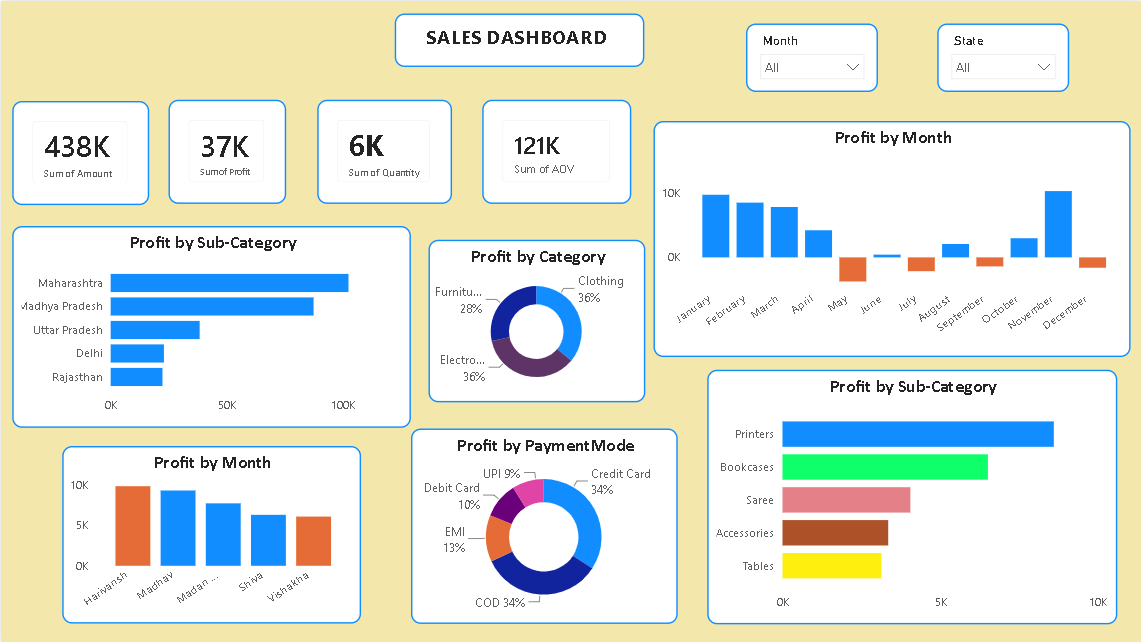

This screenshot's page, from the dashboard's own definition file:
{"tool":"powerbi","page":{"name":"Page 1","canvas":[1280,720],"ordinal":0},"visuals":[{"type":"textbox","box":[441.9,13.7,279.9,60.4],"z":0},{"type":"columnChart","title":" Profit by Month","fields":{"Y":["Sum(Details.Profit)"],"Category":["Orders.Order Date.Variation.Date Hierarchy.Month"]},"box":[731.4,134.5,535.2,264.8],"z":1000},{"type":"barChart","title":" Profit by Sub-Category","fields":{"Category":["Details.Sub-Category"],"Y":["Sum(Details.Profit)"]},"box":[791.8,413,459.7,285.4],"z":2000},{"type":"donutChart","title":"Profit by Category","fields":{"Category":["Details.Category"],"Y":["Sum(Details.Profit)"]},"box":[478.9,267.6,242.9,182.5],"z":3000},{"type":"donutChart","title":"Profit by PaymentMode","fields":{"Y":["Sum(Details.Profit)"],"Category":["Details.PaymentMode"]},"box":[459.7,478.9,299.1,219.6],"z":4000},{"type":"cardVisual","fields":{"Data":["Sum(Details.Amount)"]},"box":[12.3,112.5,153.7,116.6],"z":5000},{"type":"cardVisual","fields":{"Data":["Sum(Details.Quantity)"]},"box":[355.4,111.1,150.9,116.6],"z":6000},{"type":"cardVisual","fields":{"Data":["Sum(Details.Profit)"]},"box":[188,111.1,131.7,116.6],"z":7000},{"type":"cardVisual","fields":{"Data":["Sum(Details.AOV)"]},"box":[539.3,111.1,167.4,116.6],"z":8000},{"type":"barChart","title":" Profit by Sub-Category","fields":{"Category":["Orders.State"],"Y":["Sum(Details.Amount)"]},"box":[12.3,252.5,447.3,226.4],"z":9000},{"type":"columnChart","title":" Profit by Month","fields":{"Category":["Orders.CustomerName"],"Y":["Sum(Details.Amount)"]},"box":[68.6,499.5,334.8,199],"z":10000},{"type":"slicer","fields":{"Values":["Orders.Order Date.Variation.Date Hierarchy.Month"]},"box":[835.7,24.7,148.2,76.8],"z":11000},{"type":"slicer","fields":{"Values":["Orders.State"]},"box":[1049.7,24.7,148.2,76.8],"z":12000}]}

Visuals, with their boxes in screenshot pixels (x1, y1, x2, y2), scaled from the page's 1280x720 canvas onto the 1141x642 screenshot:
textbox: x1=394 y1=12 x2=643 y2=66
" Profit by Month" columnChart: x1=652 y1=120 x2=1129 y2=356
" Profit by Sub-Category" barChart: x1=706 y1=368 x2=1116 y2=623
"Profit by Category" donutChart: x1=427 y1=239 x2=643 y2=401
"Profit by PaymentMode" donutChart: x1=410 y1=427 x2=676 y2=623
cardVisual - Sum(Details.Amount): x1=11 y1=100 x2=148 y2=204
cardVisual - Sum(Details.Quantity): x1=317 y1=99 x2=451 y2=203
cardVisual - Sum(Details.Profit): x1=168 y1=99 x2=285 y2=203
cardVisual - Sum(Details.AOV): x1=481 y1=99 x2=630 y2=203
" Profit by Sub-Category" barChart: x1=11 y1=225 x2=410 y2=427
" Profit by Month" columnChart: x1=61 y1=445 x2=360 y2=623
slicer - Orders.Order Date.Variation.Date Hierarchy.Month: x1=745 y1=22 x2=877 y2=91
slicer - Orders.State: x1=936 y1=22 x2=1068 y2=91
